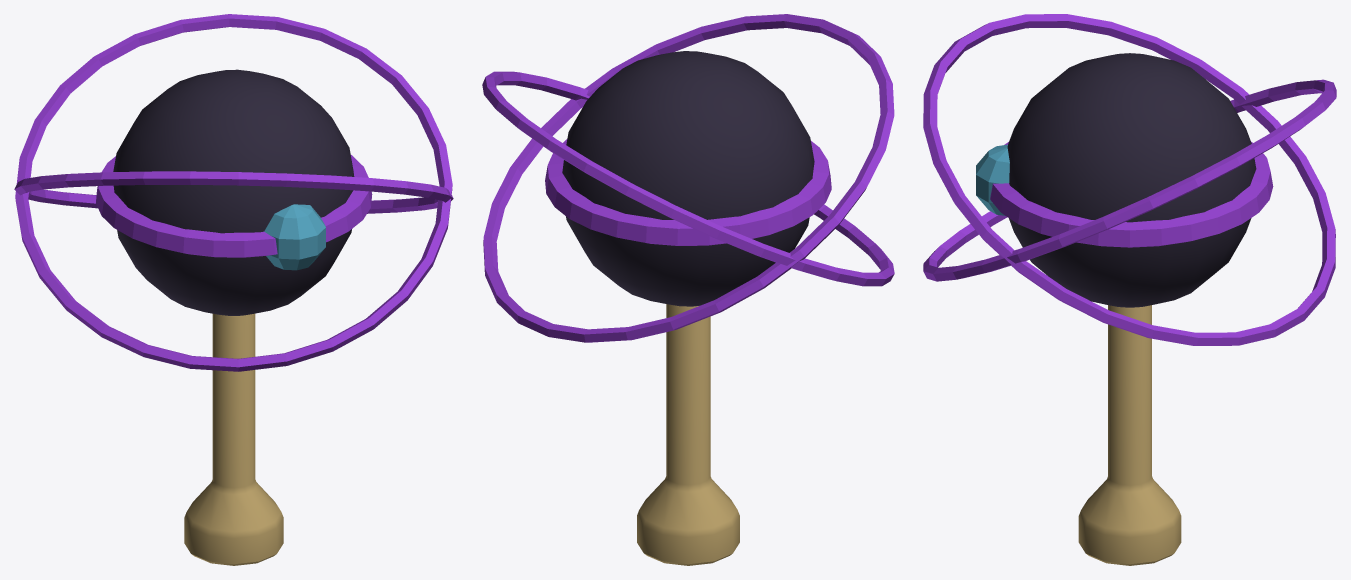
Rendered from Kit_Active_LeagueGravity.glb.
3 renders of one model, left to right at view 1: azimuth 30°, elevation 25°; view 2: azimuth 150°, elevation 25°; view 3: azimuth 270°, elevation 25°, orthographic. The views are drawn at different scales.
Parts seen in each view (by area): view 1: Kit_Active_LeagueGravity; view 2: Kit_Active_LeagueGravity; view 3: Kit_Active_LeagueGravity.
Part boxes in pixels (box(x1,y1,x2,y2)): Kit_Active_LeagueGravity: box(14, 14, 453, 565); Kit_Active_LeagueGravity: box(482, 14, 894, 565); Kit_Active_LeagueGravity: box(923, 14, 1336, 565).
Size of the model in its own units: 0.2395 by 0.29 by 0.2257.
